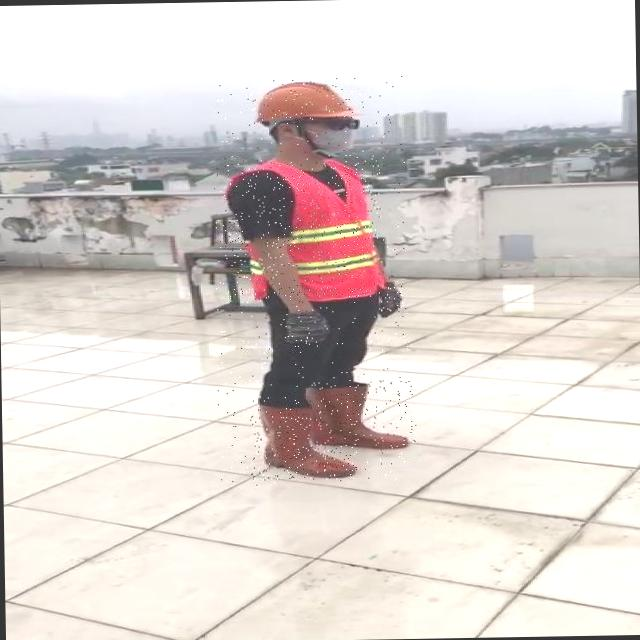boots: (250, 398, 358, 481), (308, 380, 416, 450)
gloves: (274, 294, 337, 351), (368, 264, 412, 326)
helmet: (250, 78, 354, 120)
vest: (223, 160, 382, 299)
